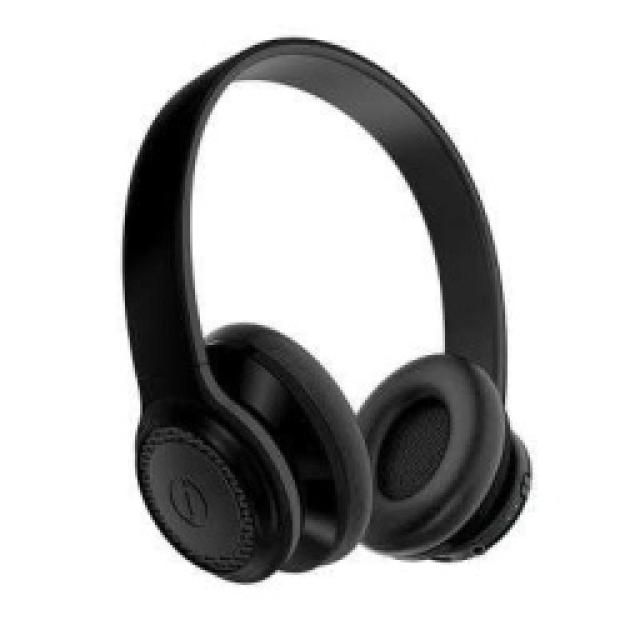headphones: (120, 32, 532, 582)
